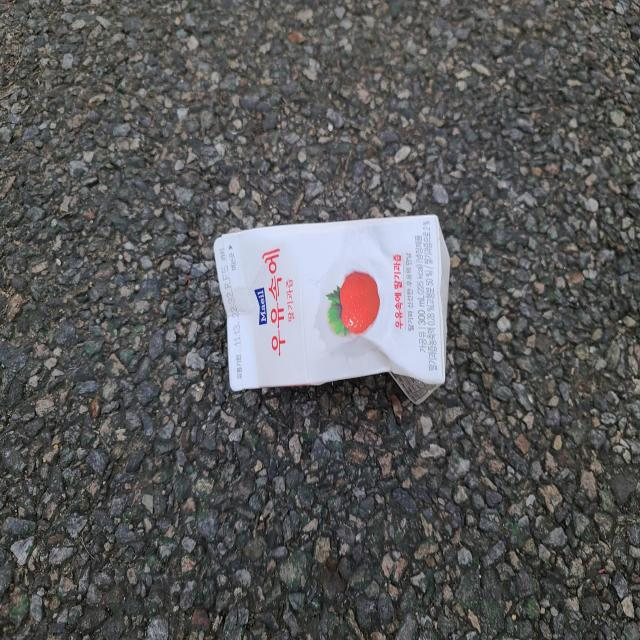paperpack: (214, 214, 450, 404)
